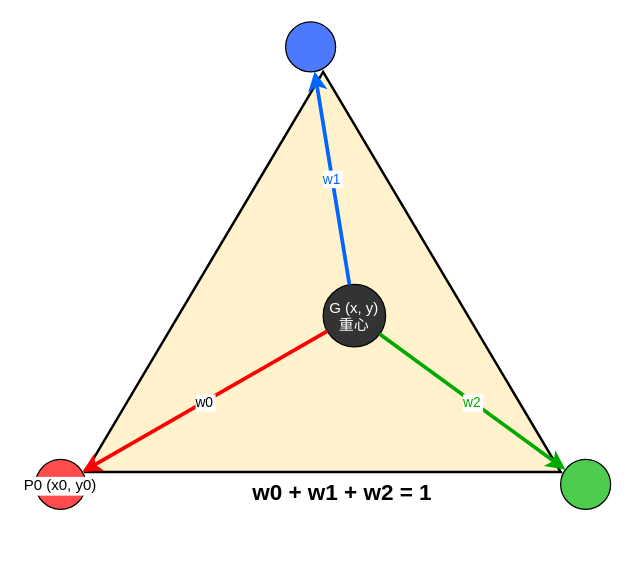
Image size: 644x569. Some labels were removed from this diagram. The centre of each missing label's shape, as x and y in pixels:
"P1 (x1, y1)" belongs at [310,46].
"P2 (x2, y2)" belongs at [585,483].
